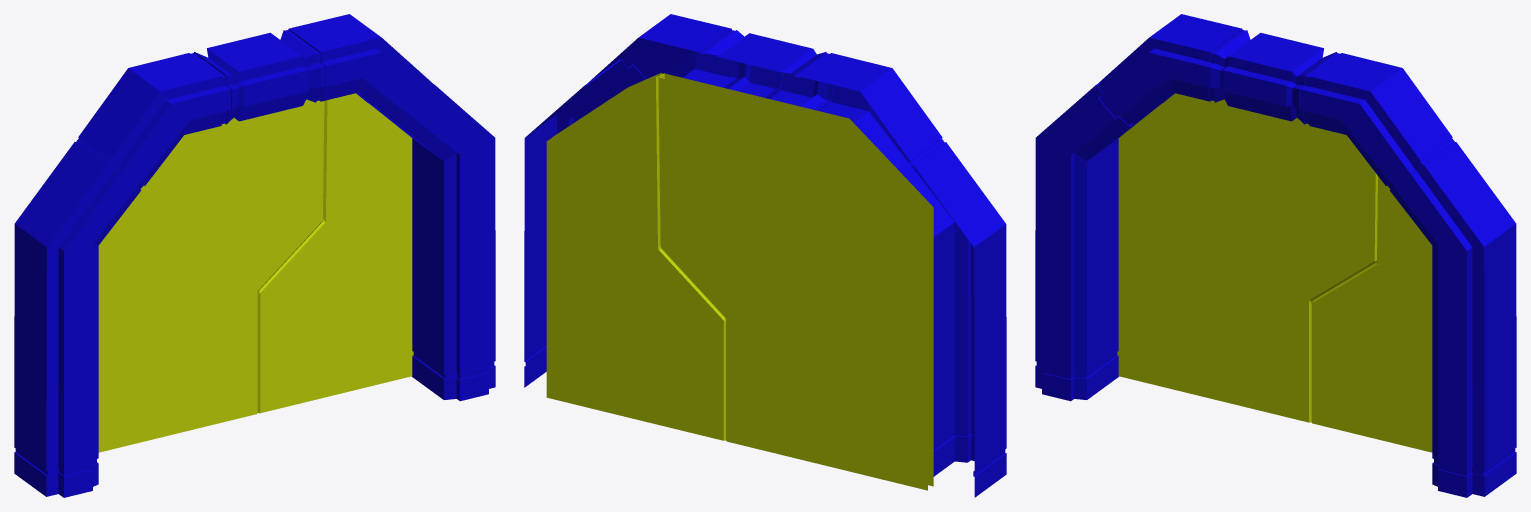
Rendered from Door2.fbx.
The picture shows the model from 3 angles, left to right: view 1: azimuth 30°, elevation 25°; view 2: azimuth 150°, elevation 25°; view 3: azimuth 330°, elevation 25°; orthographic projection.
Parts seen in each view (by area): view 1: Cylinder.003, Cylinder.002, Cylinder.001; view 2: Cylinder.002, Cylinder.003, Cylinder.001; view 3: Cylinder.003, Cylinder.002, Cylinder.001.
Part boxes in pixels (x1=…): Cylinder.003: x1=14, y1=14, x2=495, y2=497; Cylinder.002: x1=98, y1=99, x2=324, y2=452; Cylinder.001: x1=258, y1=93, x2=413, y2=413; Cylinder.002: x1=658, y1=73, x2=933, y2=490; Cylinder.003: x1=524, y1=14, x2=1006, y2=497; Cylinder.001: x1=546, y1=72, x2=725, y2=440; Cylinder.003: x1=1035, y1=14, x2=1516, y2=497; Cylinder.002: x1=1117, y1=93, x2=1377, y2=422; Cylinder.001: x1=1311, y1=176, x2=1432, y2=452.
Size of the model in its own units: 10.39 by 8.35 by 1.7.
